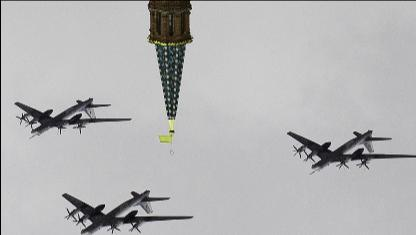Su57: (285, 127, 415, 175), (61, 188, 194, 233), (14, 97, 132, 138)
